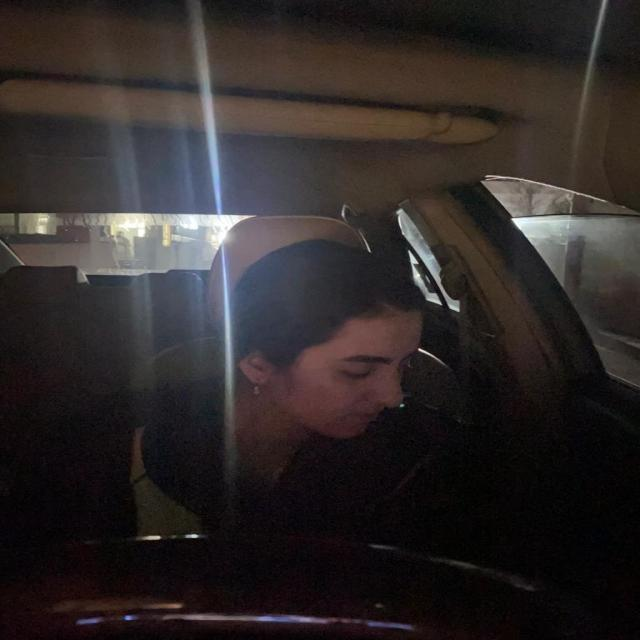drowsy: (225, 234, 433, 452)
